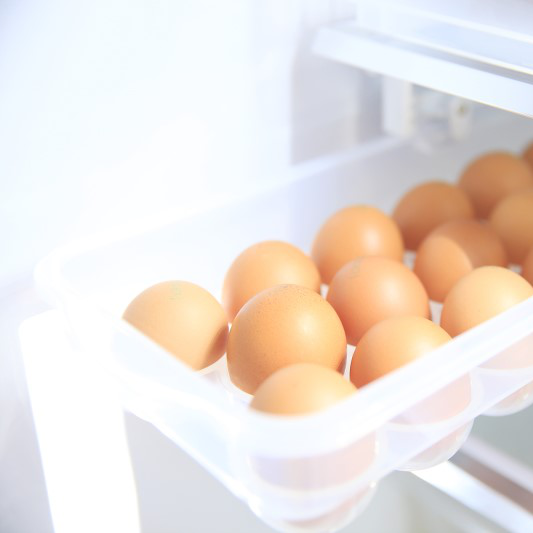egg: (124, 152, 533, 422)
